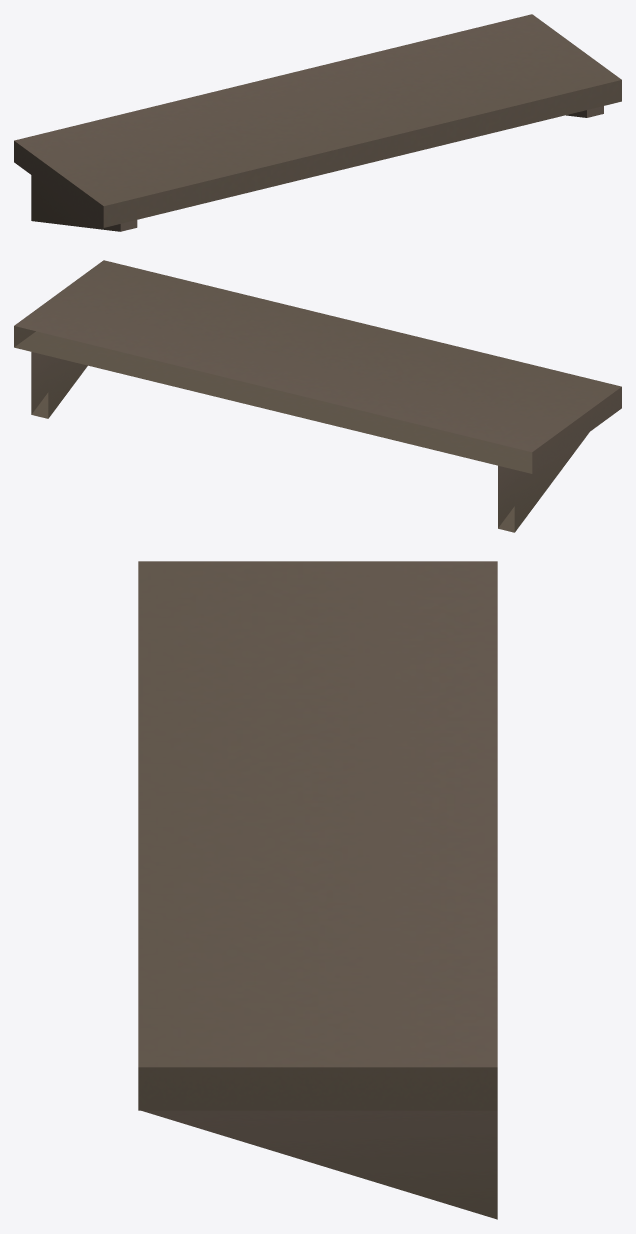
Rendered from Cupboard_1.fbx.
3 views of the same model, one above another, from view 1: azimuth 30°, elevation 25°; view 2: azimuth 150°, elevation 25°; view 3: azimuth 270°, elevation 25° (orthographic). The views are drawn at different scales.
Visible parts, largest first — view 1: pCube794; view 2: pCube794; view 3: pCube794.
Part boxes in pixels (x1=…): pCube794: x1=14, y1=14, x2=621, y2=231; pCube794: x1=14, y1=260, x2=621, y2=532; pCube794: x1=138, y1=561, x2=497, y2=1219.
Size of the model in its own units: 100 by 15.62 by 30.
